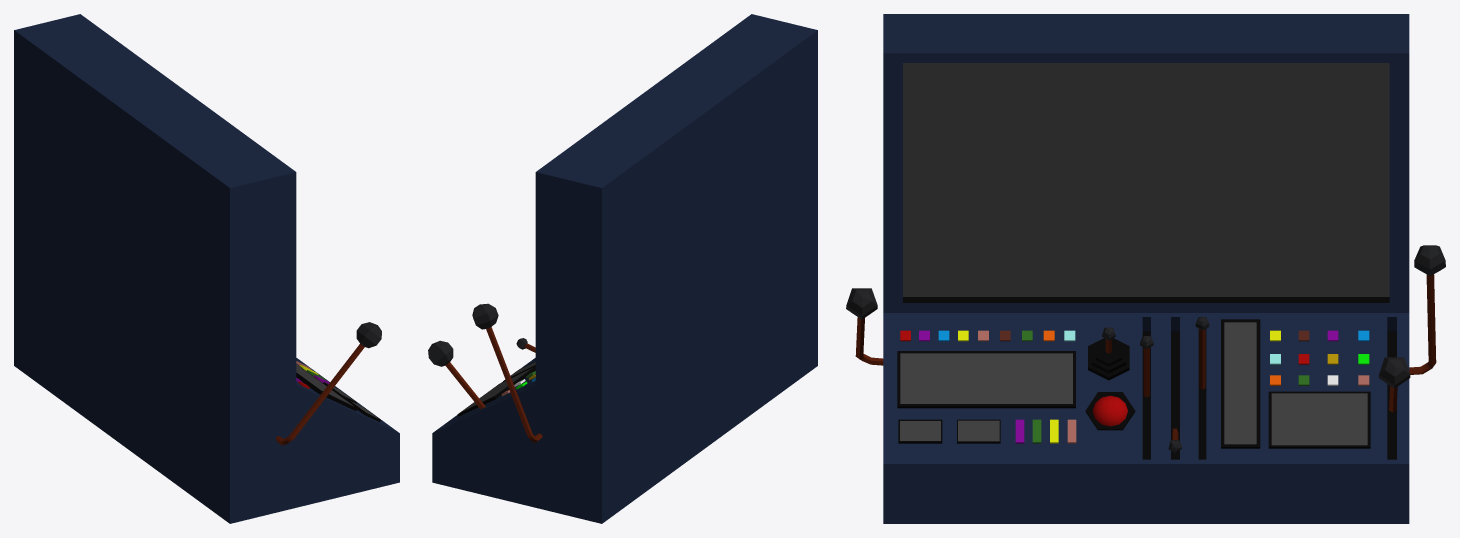
The model's file is DebugStation.fbx.
3 views of the same model, side by side, from view 1: azimuth 30°, elevation 25°; view 2: azimuth 150°, elevation 25°; view 3: azimuth 270°, elevation 25° (orthographic). The views are drawn at different scales.
Visible parts, largest first — view 1: Console1, OutsideLeft; view 2: Console1, OutsideRight, LeverFarRight; view 3: Console1, OutsideRight, OutsideLeft, LeverFarRight.
Part boxes in pixels (x1=…): Console1: x1=14, y1=14, x2=399, y2=523; OutsideLeft: x1=275, y1=322, x2=381, y2=445; Console1: x1=432, y1=14, x2=817, y2=523; OutsideRight: x1=472, y1=303, x2=542, y2=442; LeverFarRight: x1=428, y1=340, x2=485, y2=409; Console1: x1=883, y1=14, x2=1409, y2=523; OutsideRight: x1=1409, y1=245, x2=1445, y2=374; OutsideLeft: x1=846, y1=288, x2=883, y2=365; LeverFarRight: x1=1378, y1=357, x2=1410, y2=412.
Bounding box in the file's own units: 2.73 × 4.84 × 6.44.
